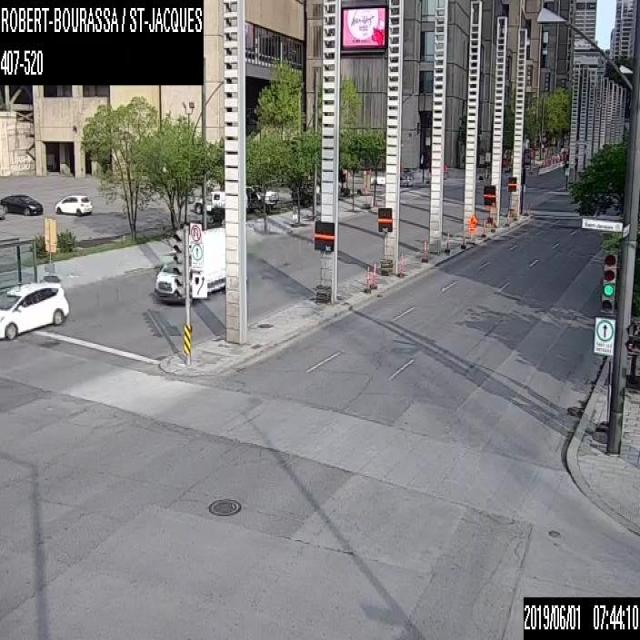construction: (467, 211, 478, 233), (371, 260, 377, 293), (398, 250, 404, 278), (364, 264, 369, 293), (480, 217, 485, 235), (422, 239, 426, 260), (444, 232, 448, 252), (460, 230, 464, 246), (505, 211, 509, 225)
vehicle: (156, 224, 225, 305), (0, 278, 69, 342), (0, 193, 43, 215), (371, 166, 413, 186), (53, 194, 92, 215), (246, 184, 278, 209), (192, 191, 223, 213)
